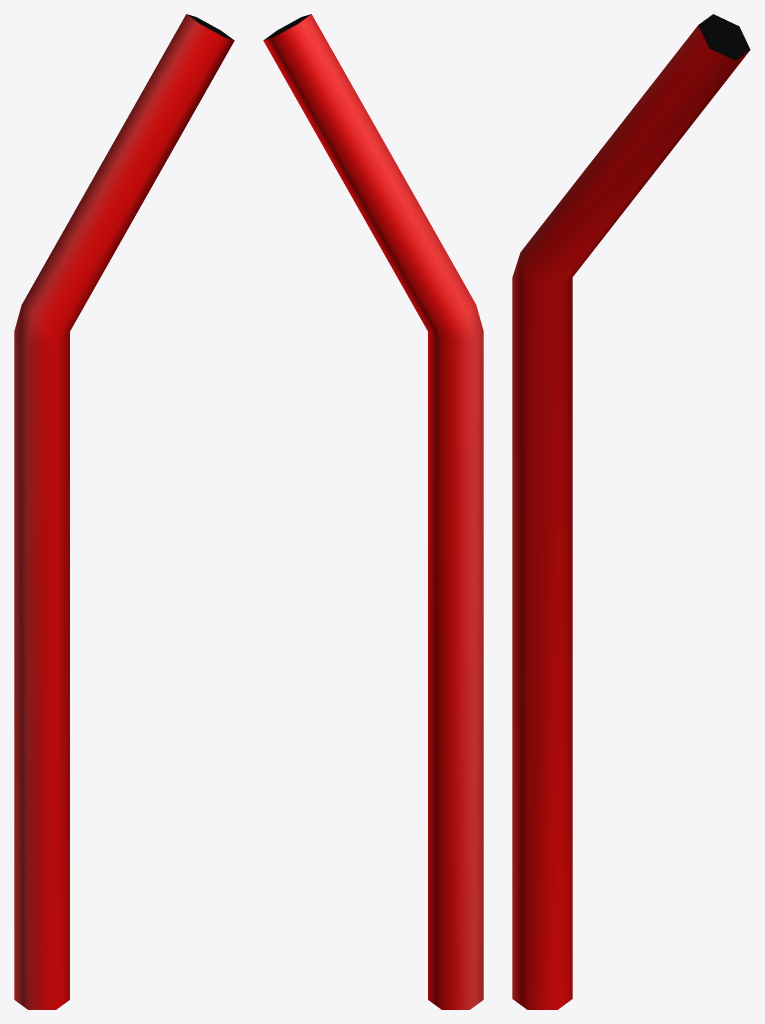
File: fff_drink_soda_straw.FBX
3 views of the same model, side by side, from view 1: azimuth 30°, elevation 25°; view 2: azimuth 150°, elevation 25°; view 3: azimuth 330°, elevation 25° (orthographic). The views are drawn at different scales.
Parts seen in each view (by area): view 1: fff_drink_soda_straw; view 2: fff_drink_soda_straw; view 3: fff_drink_soda_straw.
Part boxes in pixels (x1,y1,x2,y2): fff_drink_soda_straw: (14,14,234,1009); fff_drink_soda_straw: (263,14,483,1009); fff_drink_soda_straw: (512,14,750,1009).
Size of the model in its own units: 1.75 by 7.65 by 0.4097.
